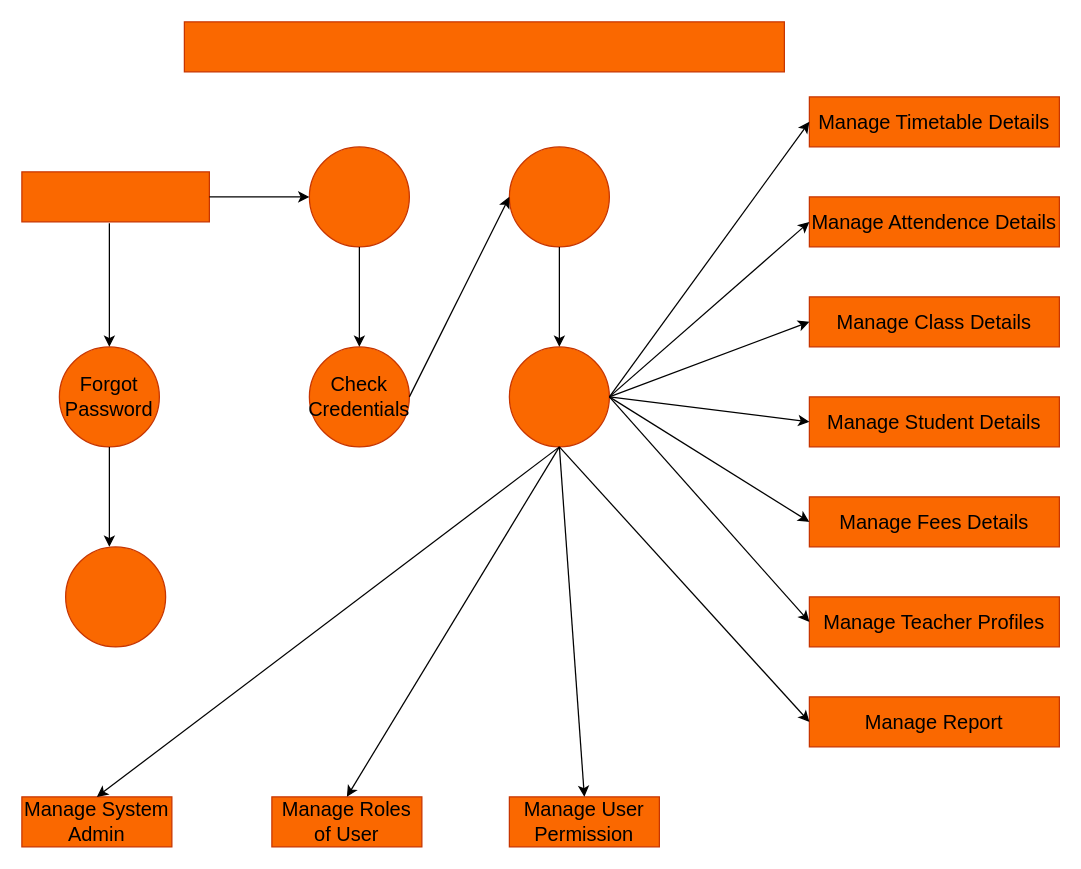
Image size: 1081x869. Some labels were removed from this diagram. The shapes that lost their labels are listed below. From the top down, each one's centre as x and y in pixels, then its label:
pixel 483 46: Student Information System
pixel 115 196: Admin
pixel 358 196: Login to System
pixel 558 196: Check Role of Access
pixel 558 396: Manage Modules
pixel 115 596: Send Email to User
